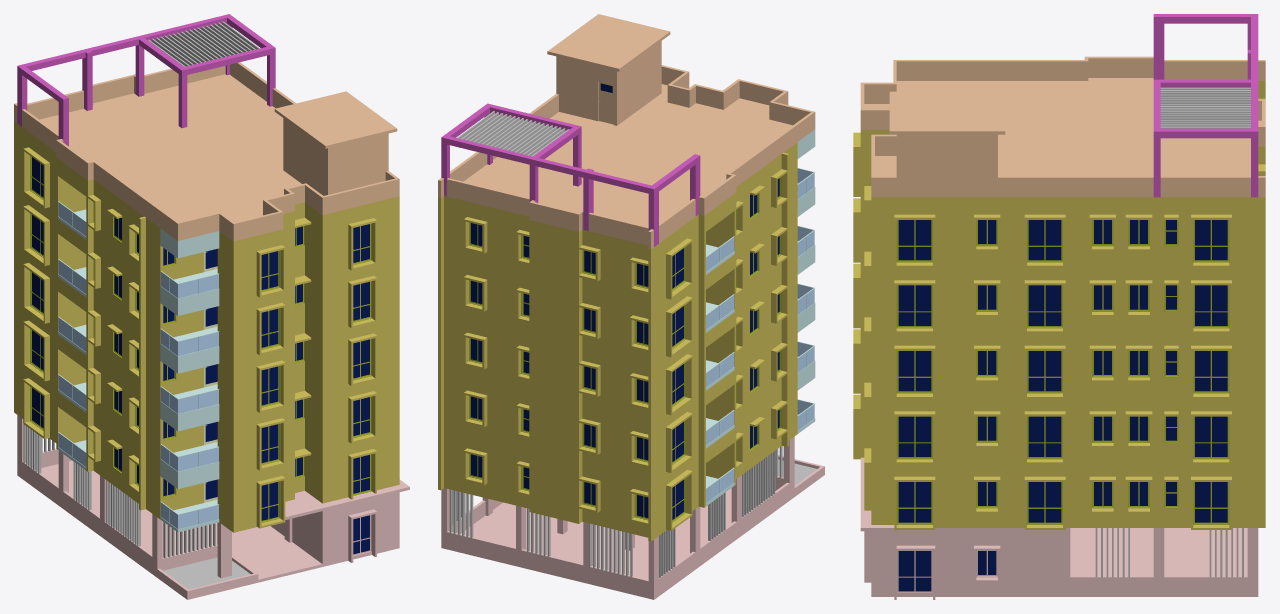
The model's file is ApartmentBuilding.glb.
3 renders of one model, left to right at view 1: azimuth 30°, elevation 25°; view 2: azimuth 150°, elevation 25°; view 3: azimuth 270°, elevation 25°, orthographic. The views are drawn at different scales.
Parts seen in each view (by area): view 1: WALL, ROOF_1, GROUND_FLOOR_1, BALCONY, LOUVER, WINDOW, DOOR, GROUND_FLOOR_2; view 2: WALL, ROOF_1, GROUND_FLOOR_1, LOUVER, WINDOW, BALCONY, ROOF_2; view 3: WALL, ROOF_1, WINDOW, GROUND_FLOOR_1, LOUVER, GROUND_FLOOR_2.
Part boxes in pixels (x1,y1,x2,y2): WALL: (14, 121, 399, 532); ROOF_1: (14, 62, 399, 241); GROUND_FLOOR_1: (17, 415, 409, 599); BALCONY: (58, 201, 219, 532); LOUVER: (17, 14, 275, 558); WINDOW: (30, 156, 371, 522); DOOR: (204, 249, 217, 502); GROUND_FLOOR_2: (353, 515, 371, 556); WALL: (438, 142, 797, 541); ROOF_1: (438, 14, 815, 249); GROUND_FLOOR_1: (441, 436, 824, 599); LOUVER: (441, 103, 784, 577); WINDOW: (469, 177, 781, 522); BALCONY: (706, 129, 815, 506); ROOF_2: (597, 81, 614, 124); WALL: (853, 81, 1265, 531); ROOF_1: (860, 56, 1265, 197); WINDOW: (896, 220, 1229, 524); GROUND_FLOOR_1: (860, 457, 1258, 599); LOUVER: (1095, 14, 1258, 577); GROUND_FLOOR_2: (896, 551, 997, 593).
Size of the model in its own units: 486 by 858 by 684.
